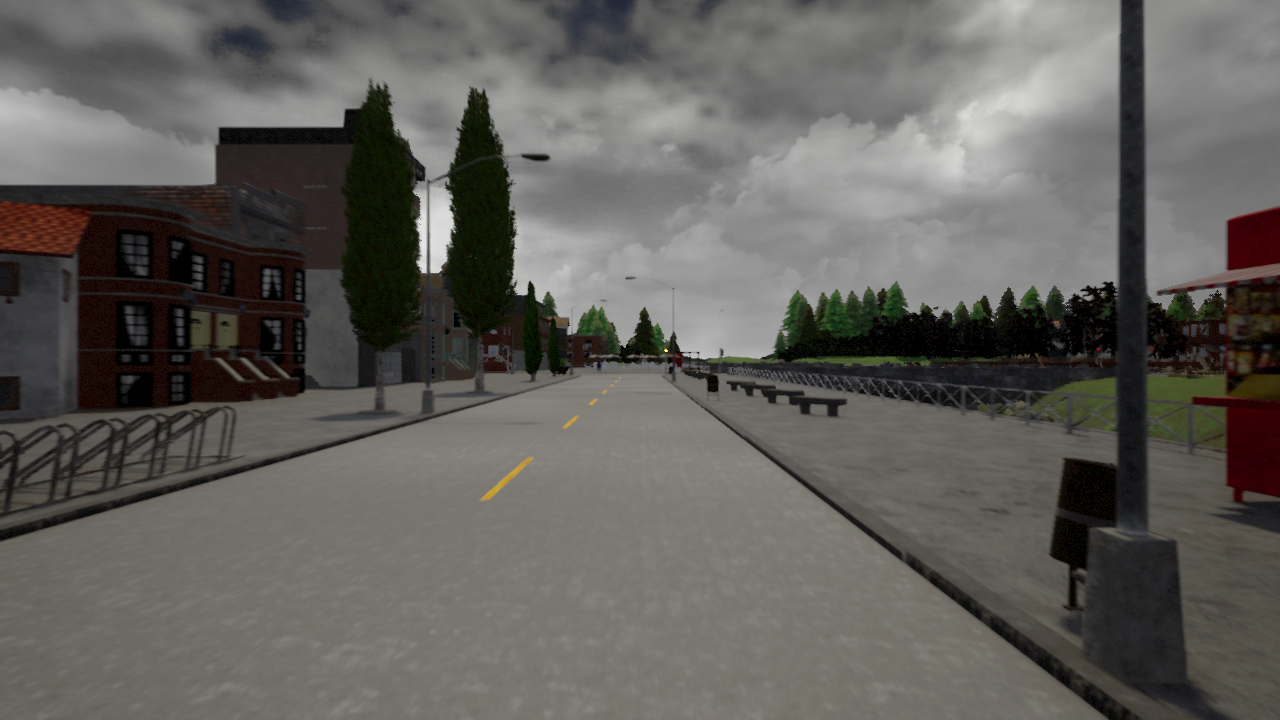yellow: (663, 344, 668, 357)
